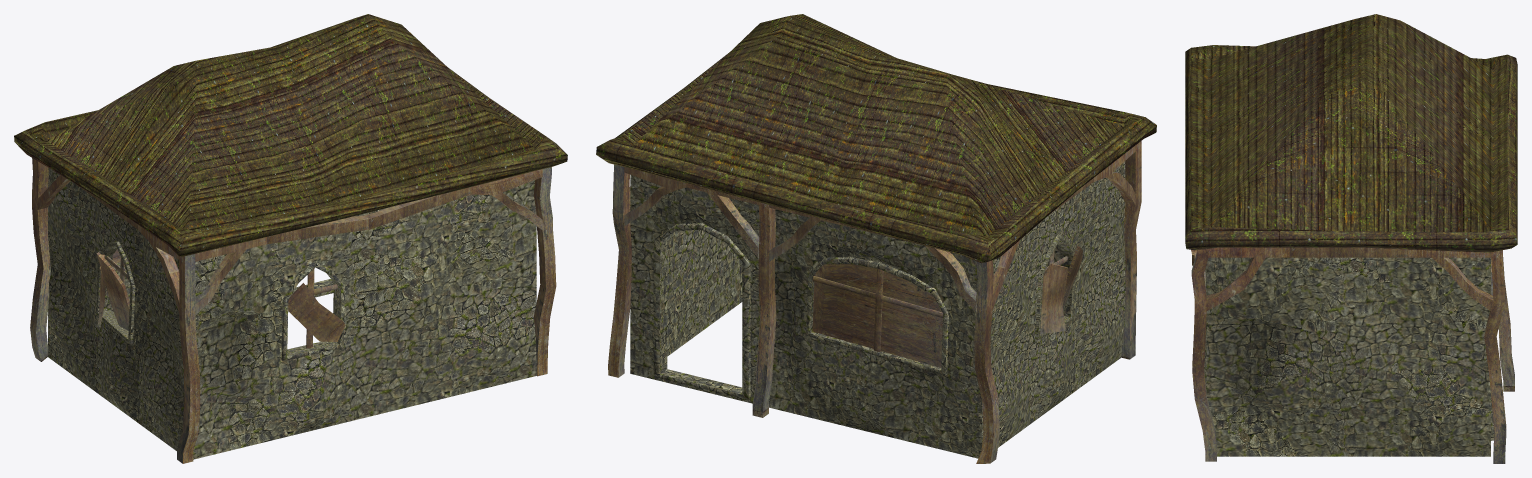
File: CottageRuin1.FBX
The picture shows the model from 3 angles, left to right: view 1: azimuth 30°, elevation 25°; view 2: azimuth 150°, elevation 25°; view 3: azimuth 270°, elevation 25°; orthographic projection.
Visible parts, largest first — view 1: Box042, Box041, Group001, Box046, Box050, Box047, Box040, Box039; view 2: Group001, Box042, Box048, Box050, Box049, Box046, Box051, Box044, Box045, Box038, Box043; view 3: Box042, Box048, Box047, Box051, Group001, Box049.
Boxes of the visible parts, <box> form: Box042: <box>14,14,567,256</box>; Box041: <box>193,180,536,459</box>; Group001: <box>48,168,471,450</box>; Box046: <box>138,225,200,463</box>; Box050: <box>30,158,78,361</box>; Box047: <box>533,167,556,376</box>; Box040: <box>195,237,266,314</box>; Box039: <box>471,169,542,229</box>; Group001: <box>630,161,1125,458</box>; Box042: <box>596,14,1156,263</box>; Box048: <box>667,229,742,356</box>; Box050: <box>974,240,1019,463</box>; Box049: <box>752,202,776,417</box>; Box046: <box>1094,141,1141,359</box>; Box051: <box>608,164,631,377</box>; Box044: <box>686,183,759,258</box>; Box045: <box>624,167,686,225</box>; Box038: <box>903,240,976,311</box>; Box043: <box>769,205,841,261</box>; Box042: <box>1185,14,1517,252</box>; Box048: <box>1206,257,1490,456</box>; Box047: <box>1191,247,1289,461</box>; Box051: <box>1408,249,1506,463</box>; Group001: <box>1191,247,1494,440</box>; Box049: <box>1498,280,1514,391</box>.
Bounding box in the file's own units: 384 × 307 × 281.
